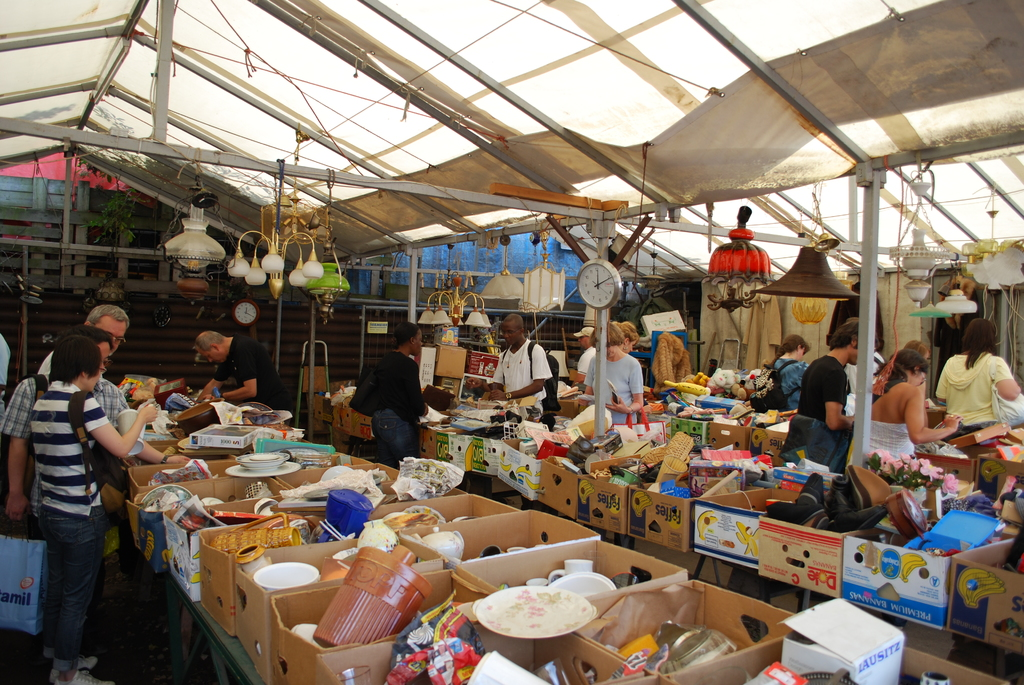Person: (0, 304, 1023, 685)
